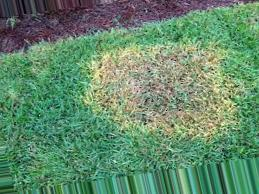patch: (95, 50, 233, 142)
